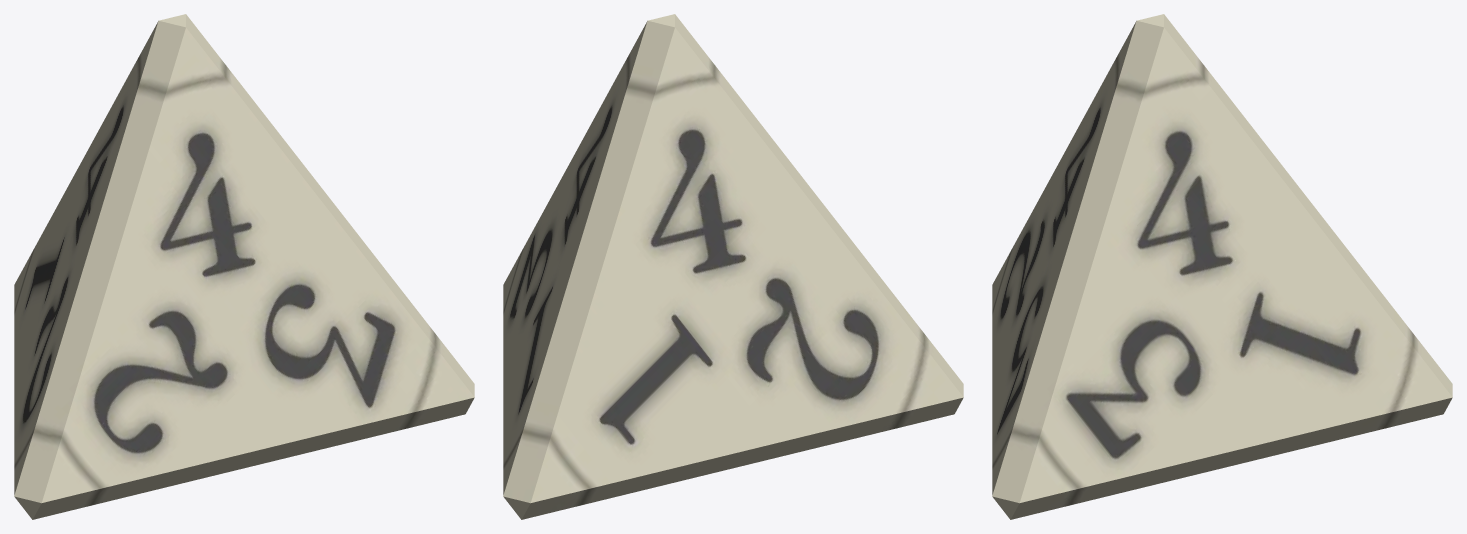
3 renders of one model, left to right at view 1: azimuth 30°, elevation 25°; view 2: azimuth 150°, elevation 25°; view 3: azimuth 270°, elevation 25°, orthographic.
Visible parts, largest first — view 1: D4; view 2: D4; view 3: D4.
Boxes of the visible parts, <box> form: D4: <box>14,14,474,519</box>; D4: <box>503,14,963,519</box>; D4: <box>992,14,1452,519</box>.
Size of the model in its own units: 3.17 by 2.59 by 2.75.
1 material, 1 textured.
